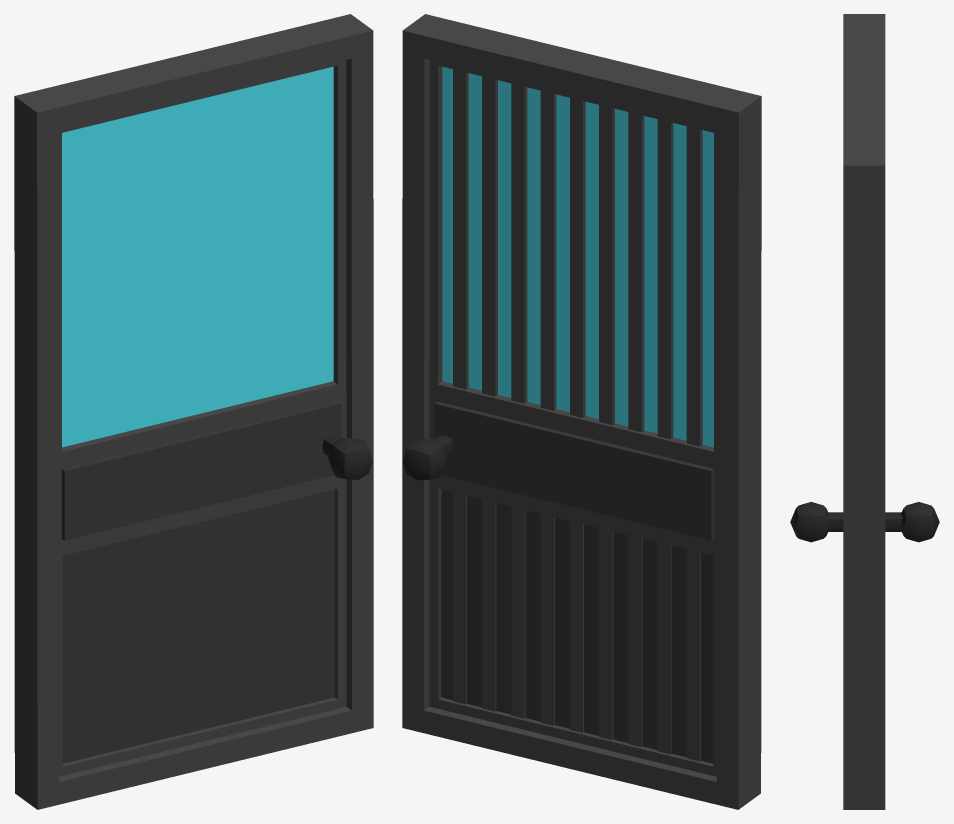
File: SM_Buildings_Office_10_Door.fbx
3 renders of one model, left to right at view 1: azimuth 30°, elevation 25°; view 2: azimuth 150°, elevation 25°; view 3: azimuth 270°, elevation 25°, orthographic. The views are drawn at different scales.
Visible parts, largest first — view 1: SM_Buildings_Office_10_Door; view 2: SM_Buildings_Office_10_Door; view 3: SM_Buildings_Office_10_Door.
Boxes of the visible parts, left/top/right/bottom form: SM_Buildings_Office_10_Door: left=14, top=14, right=373, bottom=809; SM_Buildings_Office_10_Door: left=402, top=14, right=761, bottom=809; SM_Buildings_Office_10_Door: left=790, top=14, right=939, bottom=809.
Size of the model in its own units: 1.09 by 2.16 by 0.4548.
